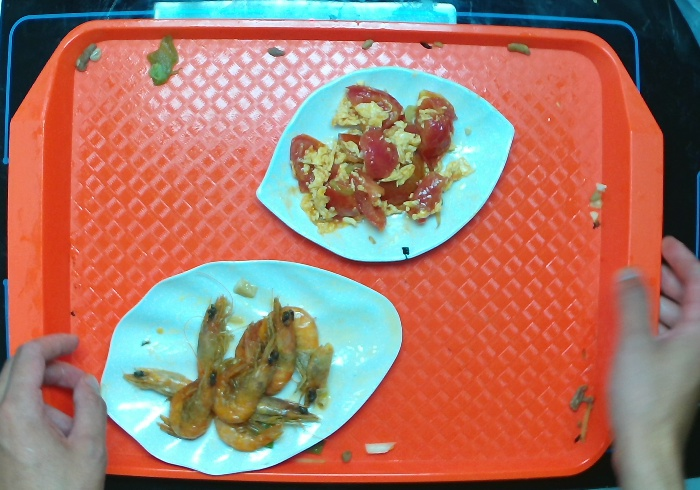RJxy-Bai_Ye_Pan: (89, 253, 405, 478)
RJxy-Da_Du_Pan: (246, 62, 524, 265)
